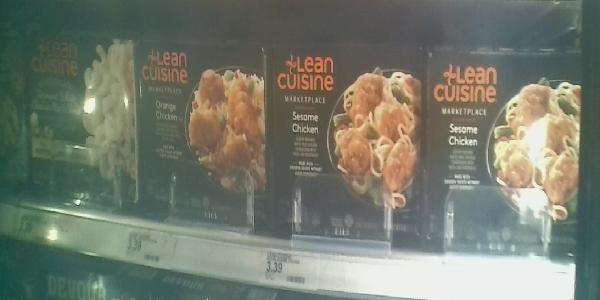pizza1: (268, 38, 426, 245), (428, 49, 586, 247), (136, 41, 268, 235), (21, 33, 136, 206)
